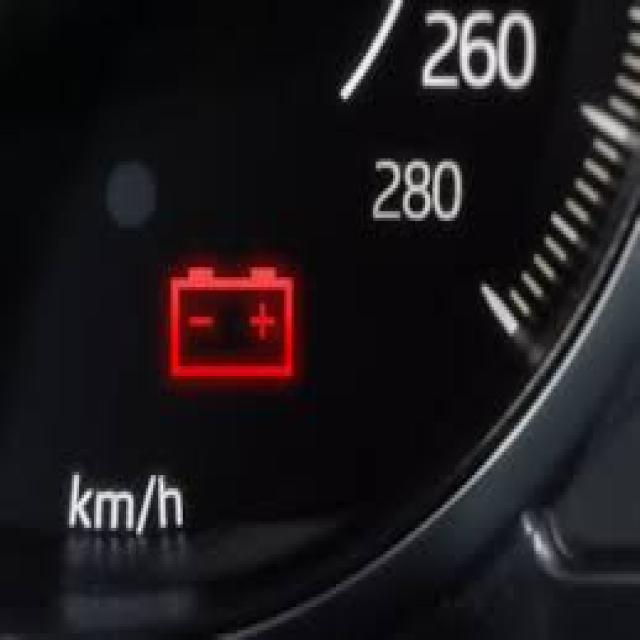kontrolka: (152, 256, 313, 398)
